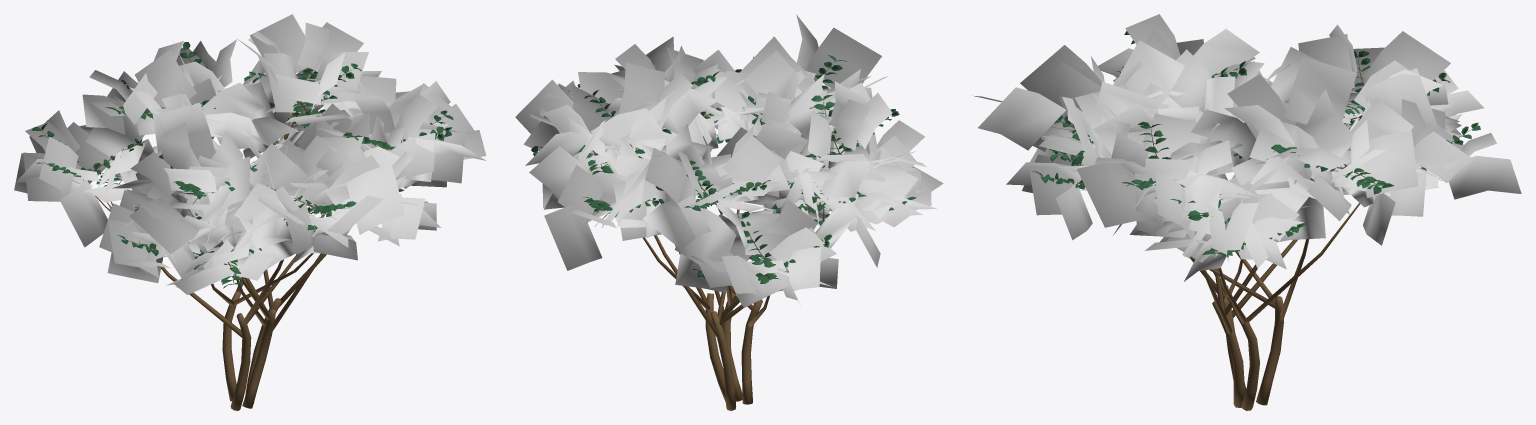
The model's file is V7_Myrte_1_Niveau0.fbx.
3 views of the same model, side by side, from view 1: azimuth 30°, elevation 25°; view 2: azimuth 150°, elevation 25°; view 3: azimuth 270°, elevation 25° (orthographic). The views are drawn at different scales.
Parts seen in each view (by area): view 1: V7_Myrte_1; view 2: V7_Myrte_1; view 3: V7_Myrte_1.
Part boxes in pixels (bbox=[...]): V7_Myrte_1: bbox=[14, 14, 486, 410]; V7_Myrte_1: bbox=[515, 14, 943, 410]; V7_Myrte_1: bbox=[974, 14, 1521, 410].
Bounding box in the file's own units: 237 × 196 × 266.
